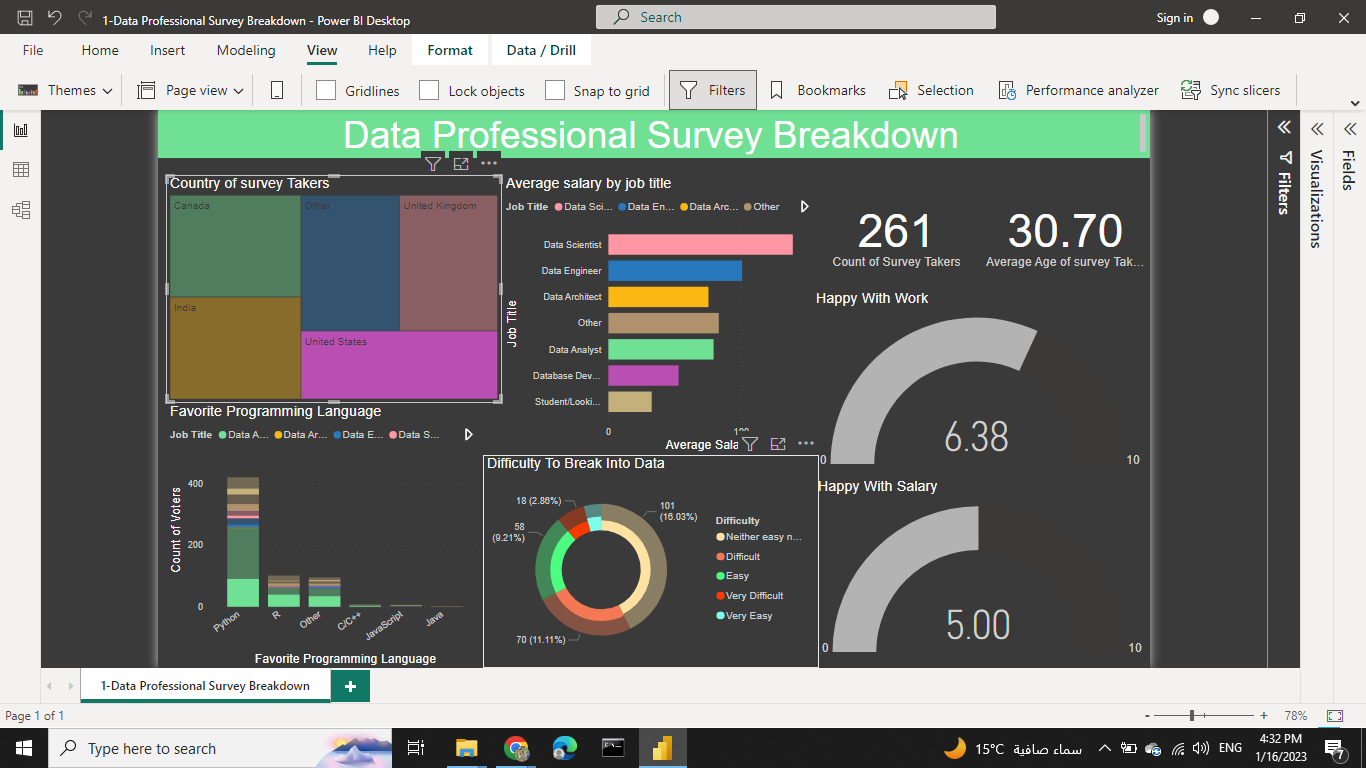

The dashboard page shown, as its layout file describes it:
{"tool":"powerbi","page":{"name":"Page 1","canvas":[1280,720],"ordinal":0},"visuals":[{"type":"textbox","box":[0,0,1280,62.2],"z":0},{"type":"card","fields":{"Values":["Count(Data Professional Survey.Unique ID)"]},"box":[843.3,84,218.4,151.2],"z":1000},{"type":"card","fields":{"Values":["Avg(Data Professional Survey.Q10 - Current Age)"]},"box":[1061.6,84,218.4,151.2],"z":2000},{"type":"barChart","title":"Average salary by job title","fields":{"Category":["Data Professional Survey.Q1 - Which Title Best Fits your Current Role?.1"],"Y":["Avg(Data Professional Survey.Average Salary)"],"Series":["Data Professional Survey.Q1 - Which Title Best Fits your Current Role?.1"]},"box":[443.5,84,409.9,361.2],"z":3000},{"type":"columnChart","title":"Favorite Programming Language","fields":{"Category":["Data Professional Survey.Q5 - Favorite Programming Language.1"],"Y":["CountNonNull(Data Professional Survey.Unique ID)"],"Series":["Data Professional Survey.Q1 - Which Title Best Fits your Current Role?.1"]},"box":[10.1,378,409.9,342.7],"z":3001},{"type":"treemap","title":"Country of survey Takers","fields":{"Group":["Data Professional Survey.Q11 - Which Country do you live in?.1"],"Values":["Count(Data Professional Survey.Q11 - Which Country do you live in?.1)"]},"box":[10.1,84,433.4,294],"z":3002},{"type":"gauge","title":"Happy With Work","fields":{"Y":["Avg(Data Professional Survey.Q6 - How Happy are you in your Current Position with the following? (Work/Life Balance))"],"MinValue":["Min(Data Professional Survey.Q6 - How Happy are you in your Current Position with the following? (Work/Life Balance))1"],"MaxValue":["Max(Data Professional Survey.Q6 - How Happy are you in your Current Position with the following? (Work/Life Balance))2"]},"box":[843.3,231.8,433.4,243.6],"z":3003},{"type":"gauge","title":"Happy With Salary","fields":{"Y":["Avg(Data Professional Survey.Q6 - How Happy are you in your Current Position with the following? (Salary))"],"MinValue":["Min(Data Professional Survey.Q6 - How Happy are you in your Current Position with the following? (Salary))"],"MaxValue":["Max(Data Professional Survey.Q6 - How Happy are you in your Current Position with the following? (Salary))"]},"box":[846.6,475.4,433.4,245.2],"z":3004},{"type":"donutChart","title":"Difficulty To Break Into Data","fields":{"Y":["CountNonNull(Data Professional Survey.Q7 - How difficult was it for you to break into Data?)"],"Category":["Data Professional Survey.Q7 - How difficult was it for you to break into Data?"]},"box":[419.9,445.1,433.4,275.5],"z":3005}]}

Visuals, with their boxes on the page's 1280x720 design canvas (x1, y1, x2, y2). These are canvas units, not pixel positions in the 1366x768 screenshot, which may show the page scaled, cropped or inside an application window:
textbox: [x1=0, y1=0, x2=1280, y2=62]
card - Count(Data Professional Survey.Unique ID): [x1=843, y1=84, x2=1062, y2=235]
card - Avg(Data Professional Survey.Q10 - Current Age): [x1=1062, y1=84, x2=1280, y2=235]
"Average salary by job title" barChart: [x1=444, y1=84, x2=853, y2=445]
"Favorite Programming Language" columnChart: [x1=10, y1=378, x2=420, y2=721]
"Country of survey Takers" treemap: [x1=10, y1=84, x2=444, y2=378]
"Happy With Work" gauge: [x1=843, y1=232, x2=1277, y2=475]
"Happy With Salary" gauge: [x1=847, y1=475, x2=1280, y2=721]
"Difficulty To Break Into Data" donutChart: [x1=420, y1=445, x2=853, y2=721]
